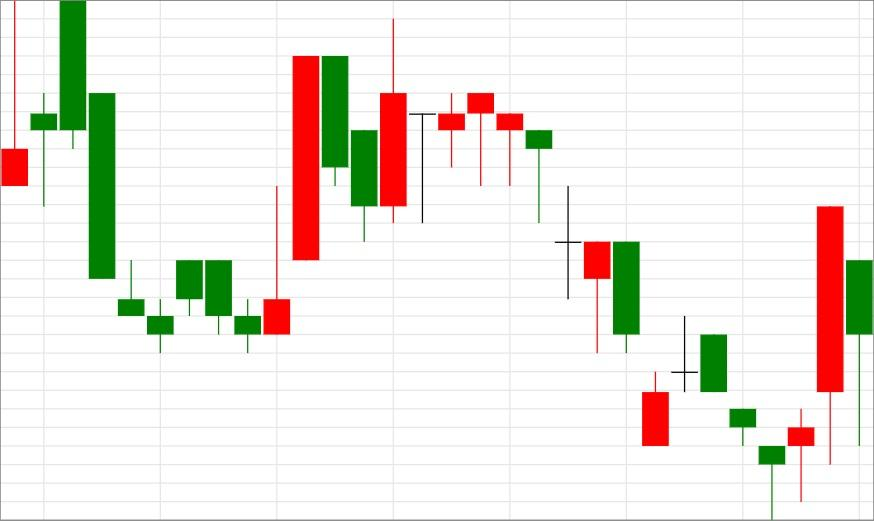hammer_rise: (670, 315, 786, 521)
hanging_man_fall: (350, 19, 495, 241)
inverse_hammer_rise: (175, 186, 291, 353)
